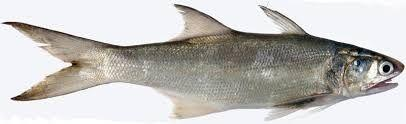Fourfinger Threadfish: (1, 1, 406, 124)
